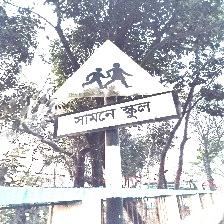School-in-front: (45, 38, 182, 138)
